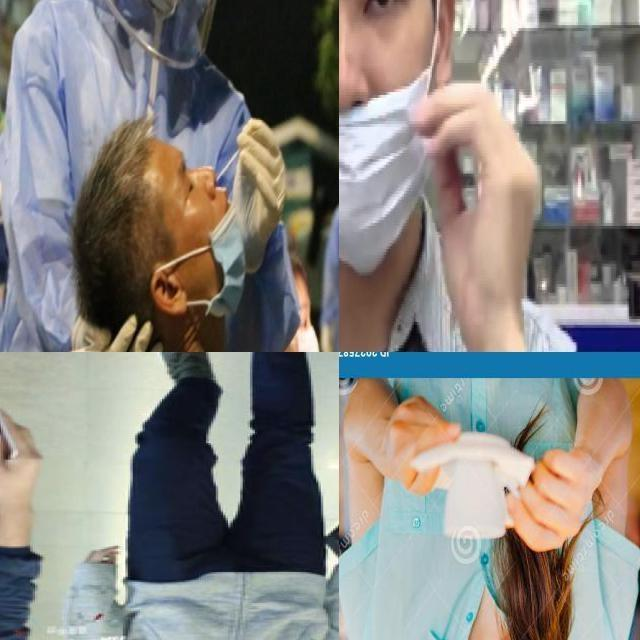hairnet: (339, 24, 446, 262), (167, 148, 246, 314)
